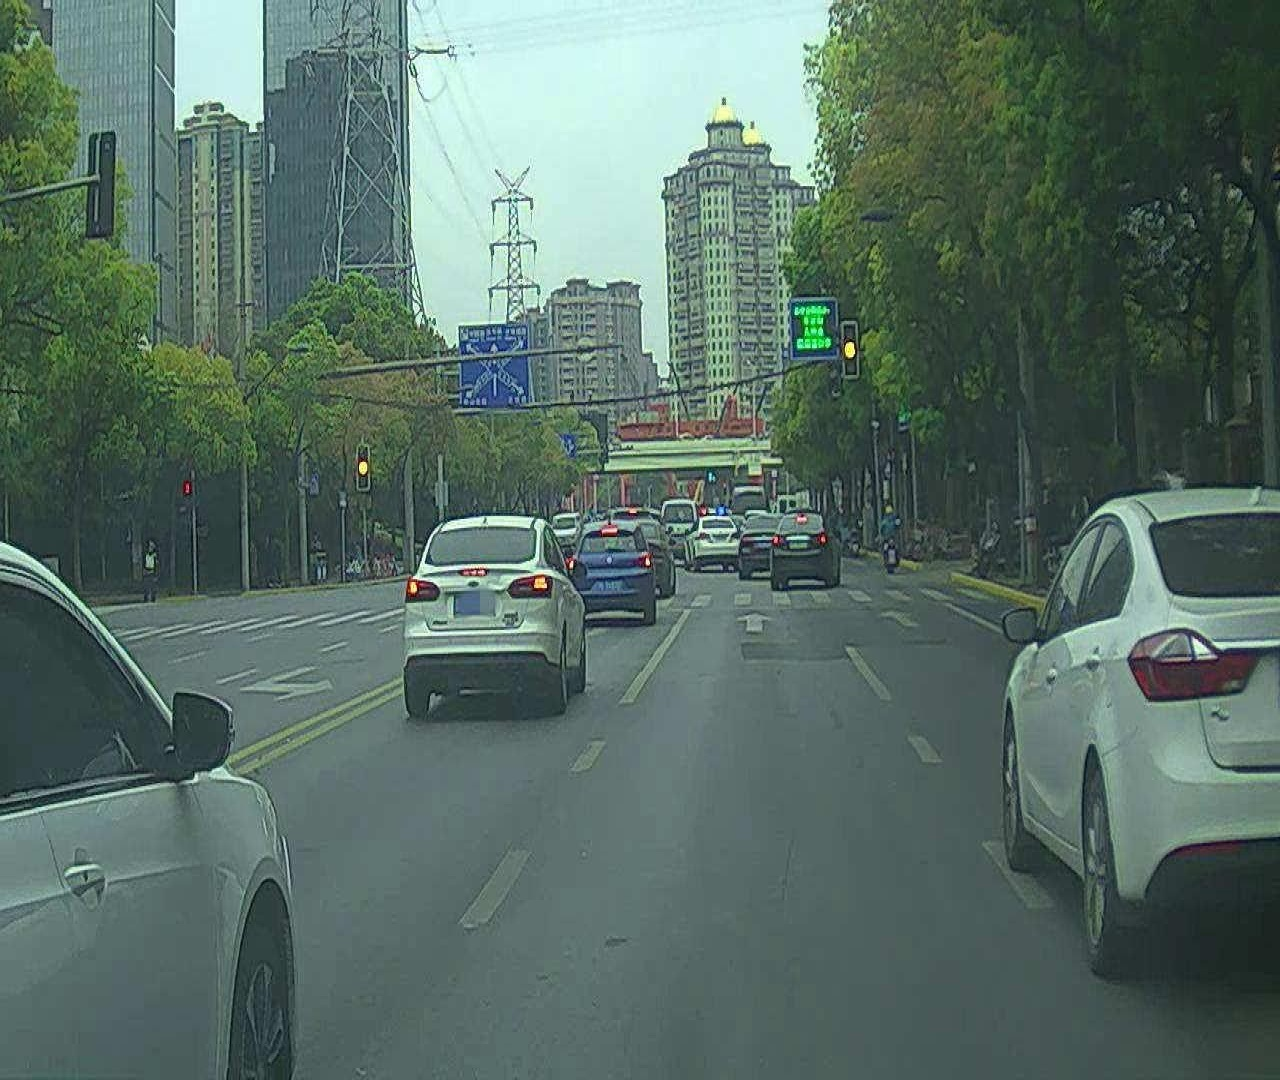yellow: (843, 321, 859, 376), (357, 445, 371, 490)
